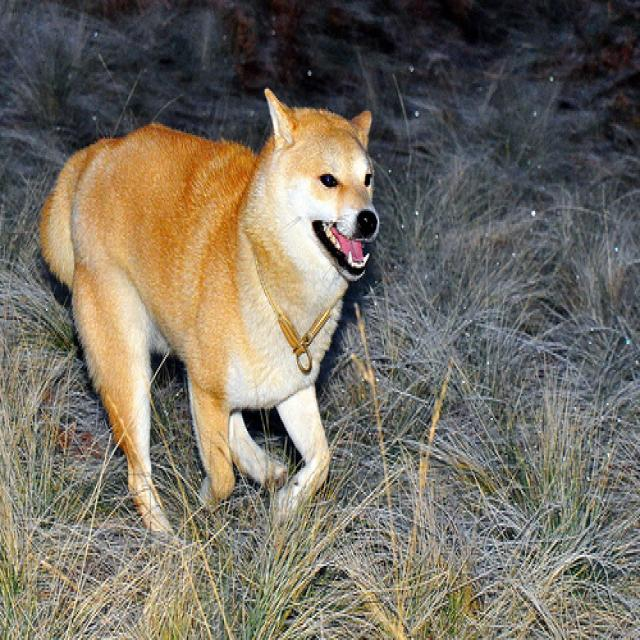dog-shiba_inu: (31, 80, 388, 553)
